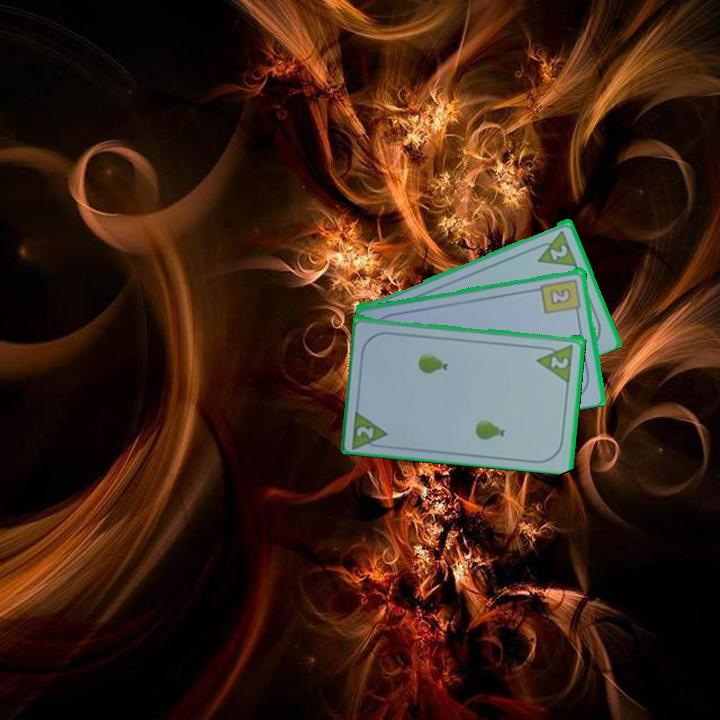2b: (538, 275, 584, 317)
2p: (534, 340, 576, 384), (546, 241, 571, 263), (353, 422, 377, 441)
